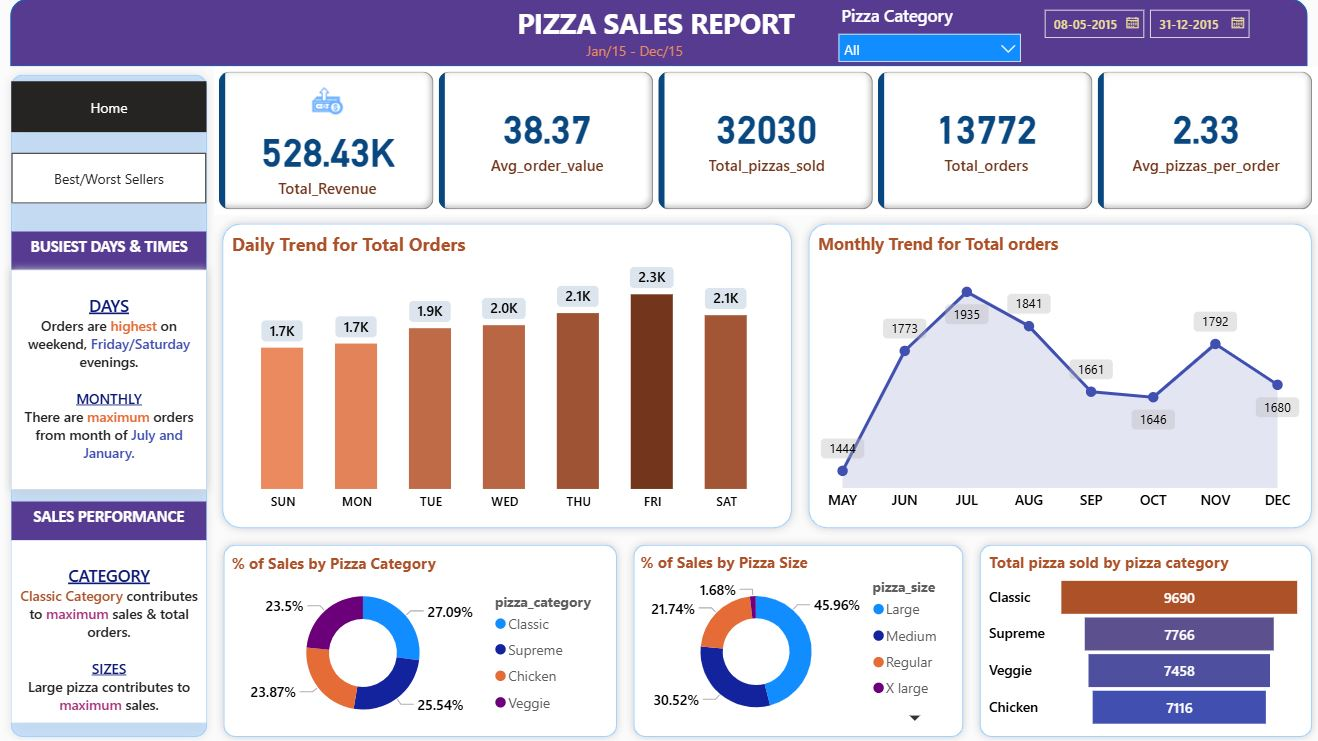

The dashboard page shown, as its layout file describes it:
{"tool":"powerbi","page":{"name":"Home","canvas":[1280,720],"ordinal":0},"visuals":[{"type":"cardVisual","fields":{"Data":["pizza_sales.Total_Revenue","pizza_sales.Avg_order_value","pizza_sales.Total_pizzas_sold","pizza_sales.Total_orders","pizza_sales.Avg_pizzas_per_order"]},"box":[212.3,65.1,1067.7,143.6],"z":0},{"type":"shape","box":[15.7,0,1252.3,65.1],"z":1000},{"type":"textbox","box":[458.4,0,360.7,49.5],"z":2000},{"type":"textbox","box":[564.6,36.2,107.4,29],"z":3000},{"type":"shape","box":[212.3,208.7,565.8,310.1],"z":4000},{"type":"columnChart","title":"Daily Trend for Total Orders","fields":{"Category":["pizza_sales.Order Day"],"Y":["pizza_sales.Total_orders"]},"box":[224.4,224.4,538.1,278.7],"z":5000},{"type":"shape","box":[778.2,208.7,501.9,310.1],"z":6000},{"type":"areaChart","title":"Monthly Trend for Total orders","fields":{"Category":["pizza_sales.Order Month"],"Y":["pizza_sales.Total_orders"]},"box":[790.2,224.4,477.8,278.7],"z":7000},{"type":"shape","box":[213.5,518.8,395.7,201.5],"z":8000},{"type":"shape","box":[609.3,518.8,334.2,201.5],"z":9000},{"type":"shape","box":[943.4,518.8,336.6,201.5],"z":10000},{"type":"donutChart","title":"% of Sales by Pizza Category","fields":{"Category":["pizza_sales.pizza_category"],"Y":["pizza_sales.Total_Revenue"]},"box":[224.4,534.5,372.8,173.7],"z":11000},{"type":"donutChart","title":"% of Sales by Pizza Size","fields":{"Y":["pizza_sales.Total_Revenue"],"Category":["pizza_sales.pizza_size"]},"box":[618.9,533.2,313.7,173.7],"z":12000},{"type":"funnel","title":"Total pizza sold by pizza category","fields":{"Category":["pizza_sales.pizza_category"],"Y":["pizza_sales.Total_pizzas_sold"]},"box":[955.5,533.2,312.5,174.9],"z":13000},{"type":"shape","box":[8.4,65.1,205.1,655.1],"z":14000},{"type":"textbox","box":[16.9,224.4,188.2,37.4],"z":15000},{"type":"shape","box":[8.4,253.4,205.1,228],"z":16000},{"type":"textbox","box":[16.9,261.8,188.2,211.1],"z":17000},{"type":"textbox","box":[16.9,485,188.2,37.4],"z":18000},{"type":"textbox","box":[16.9,522.4,188.2,176.1],"z":19000},{"type":"slicer","fields":{"Values":["pizza_sales.pizza_category"]},"box":[804.7,0,196.6,65.1],"z":20000},{"type":"slicer","fields":{"Values":["pizza_sales.order_date"]},"box":[1001.3,0,222,65],"z":21000},{"type":"pageNavigator","box":[16.9,79.6,188.2,49.5],"z":21001},{"type":"pageNavigator","box":[16.9,148.4,188.2,49.5],"z":21002}]}

Visuals, with their boxes in screenshot pixels (x1, y1, x2, y2), scaled from the page's 1280x720 canvas onto the 1318x741 screenshot:
cardVisual - pizza_sales.Total_Revenue x pizza_sales.Avg_order_value: l=219, t=67, r=1317, b=215
shape: l=16, t=0, r=1306, b=67
textbox: l=472, t=0, r=843, b=51
textbox: l=581, t=37, r=692, b=67
shape: l=219, t=215, r=801, b=534
"Daily Trend for Total Orders" columnChart: l=231, t=231, r=785, b=518
shape: l=801, t=215, r=1317, b=534
"Monthly Trend for Total orders" areaChart: l=814, t=231, r=1306, b=518
shape: l=220, t=534, r=627, b=740
shape: l=627, t=534, r=972, b=740
shape: l=971, t=534, r=1317, b=740
"% of Sales by Pizza Category" donutChart: l=231, t=550, r=615, b=729
"% of Sales by Pizza Size" donutChart: l=637, t=549, r=960, b=728
"Total pizza sold by pizza category" funnel: l=984, t=549, r=1306, b=729
shape: l=9, t=67, r=220, b=740
textbox: l=17, t=231, r=211, b=269
shape: l=9, t=261, r=220, b=495
textbox: l=17, t=269, r=211, b=487
textbox: l=17, t=499, r=211, b=538
textbox: l=17, t=538, r=211, b=719
slicer - pizza_sales.pizza_category: l=829, t=0, r=1031, b=67
slicer - pizza_sales.order_date: l=1031, t=0, r=1260, b=67
pageNavigator: l=17, t=82, r=211, b=133
pageNavigator: l=17, t=153, r=211, b=204
